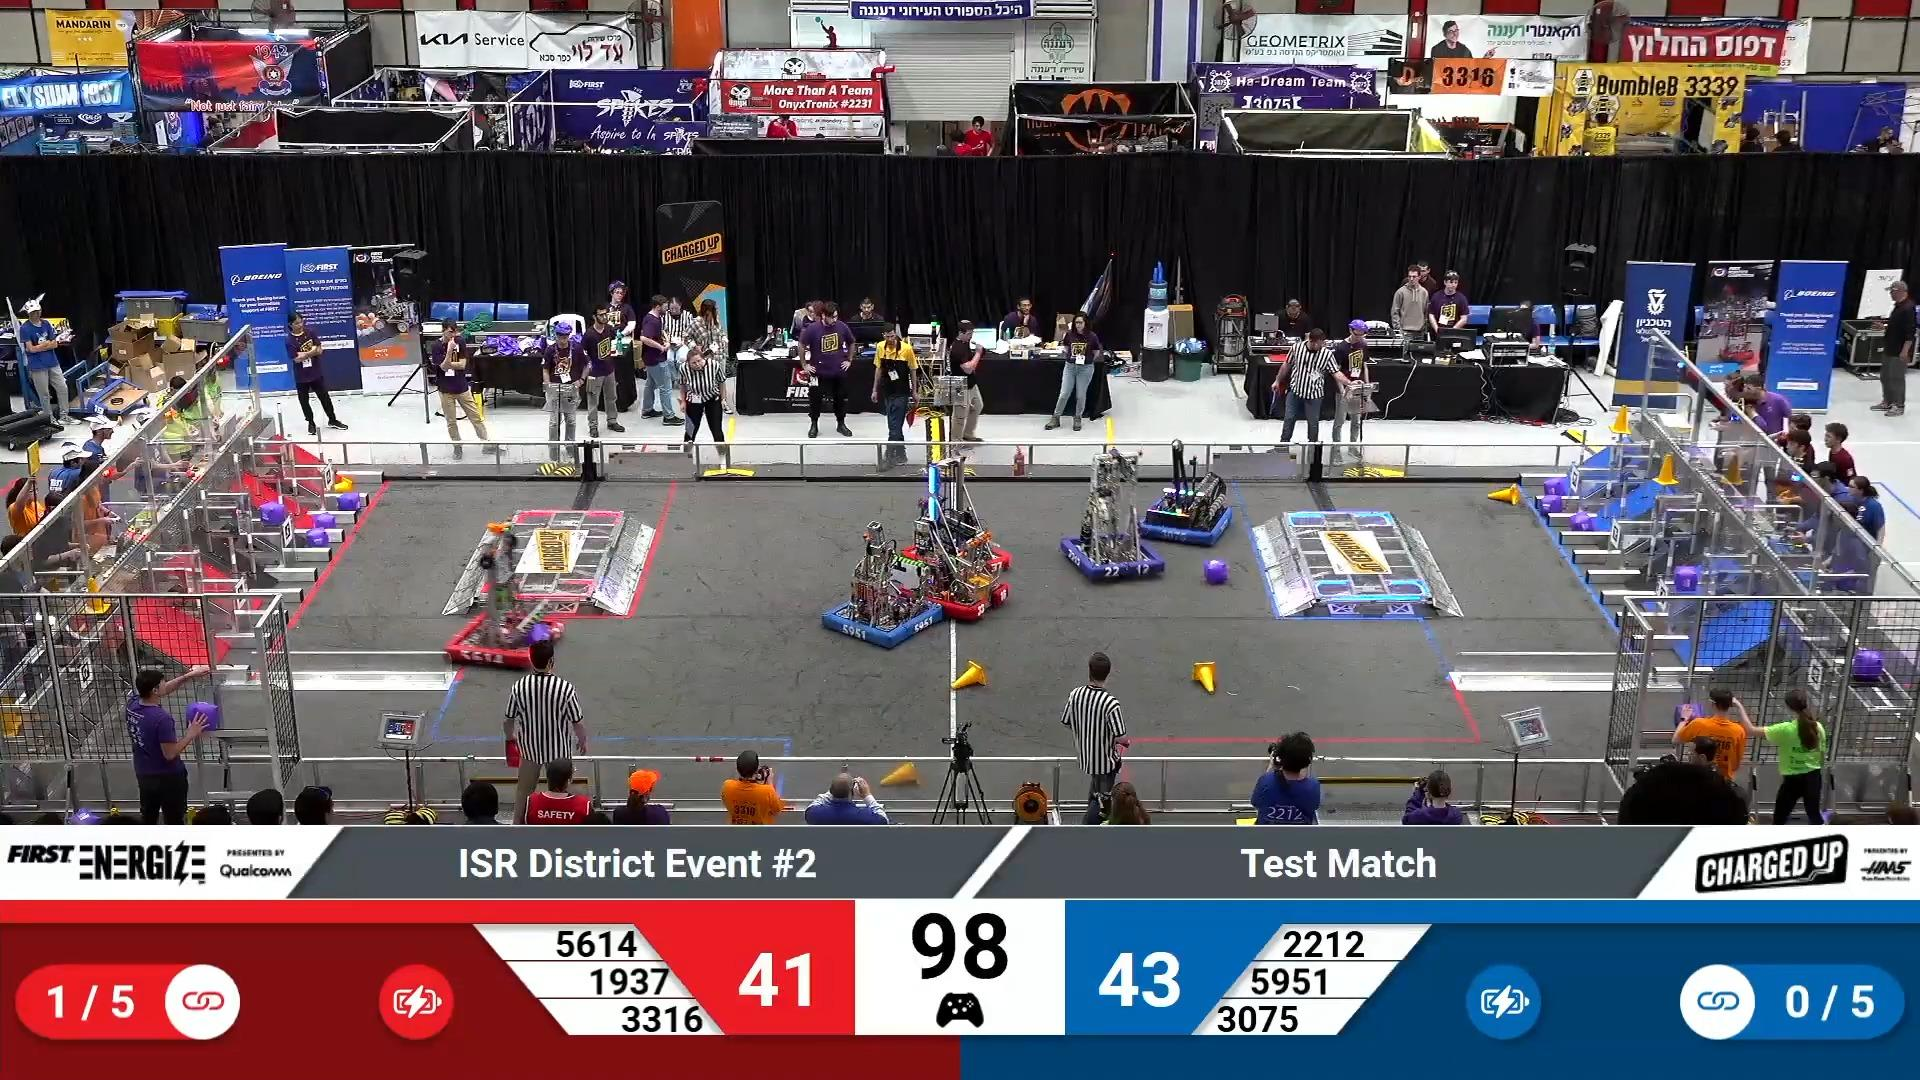robot: (440, 521, 564, 670), (820, 517, 944, 650), (895, 451, 1017, 587), (1063, 451, 1167, 582), (895, 512, 1011, 624), (1139, 439, 1233, 543)
